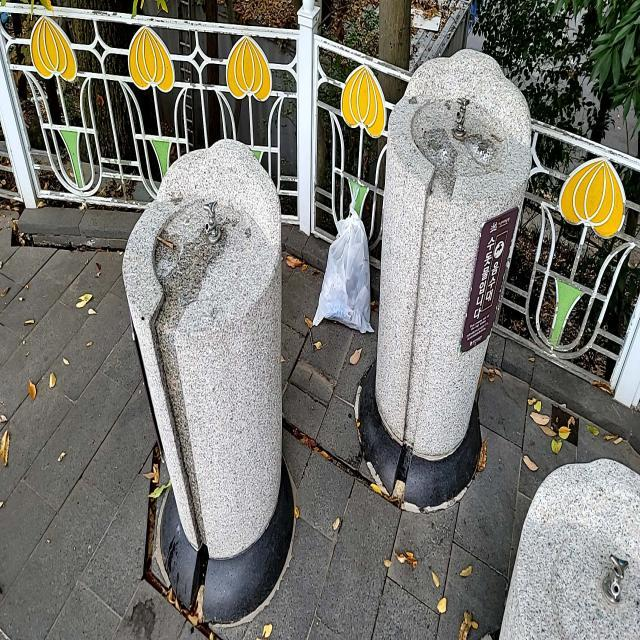Garbage_Bag: (308, 202, 374, 346)
